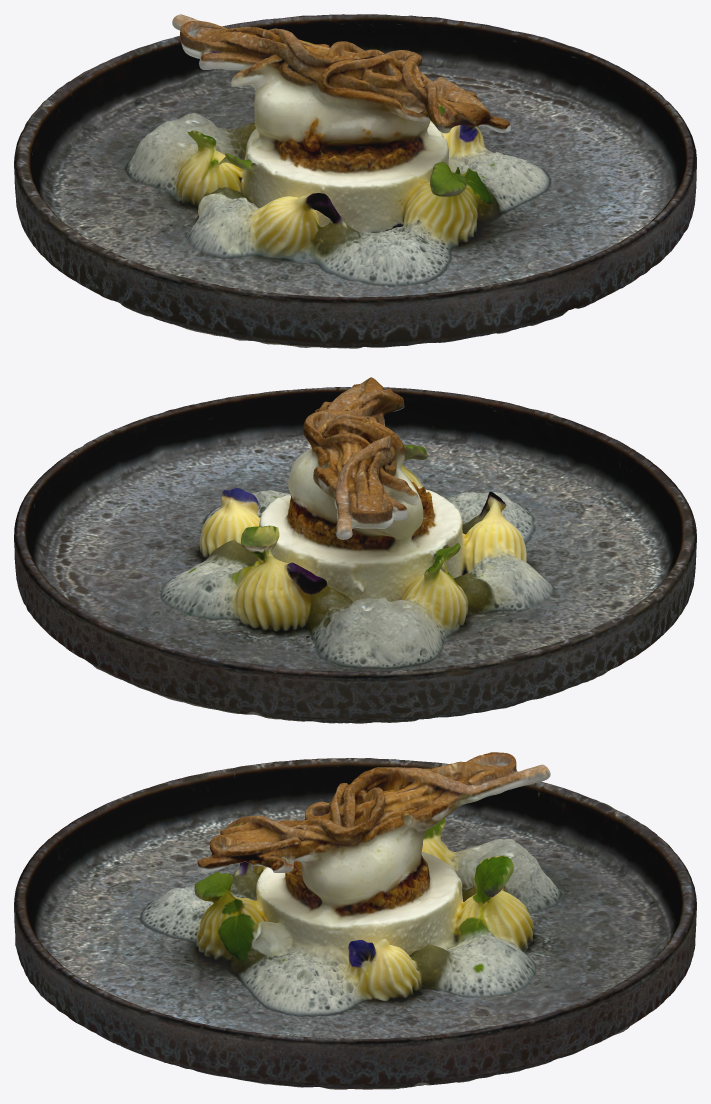
Rendered from bouillon.glb.
The picture shows the model from 3 angles, top to bottom: view 1: azimuth 30°, elevation 25°; view 2: azimuth 150°, elevation 25°; view 3: azimuth 270°, elevation 25°; orthographic projection.
Visible parts, largest first — view 1: _3A649676_03AC_484C_BA01_B8AD8B508A08; view 2: _3A649676_03AC_484C_BA01_B8AD8B508A08; view 3: _3A649676_03AC_484C_BA01_B8AD8B508A08.
Part boxes in pixels (bbox=[...]): _3A649676_03AC_484C_BA01_B8AD8B508A08: bbox=[14, 14, 696, 348]; _3A649676_03AC_484C_BA01_B8AD8B508A08: bbox=[14, 377, 696, 723]; _3A649676_03AC_484C_BA01_B8AD8B508A08: bbox=[14, 752, 696, 1089].
Bounding box in the file's own units: 0.203 × 0.0583 × 0.203.
1 material, 1 textured.
